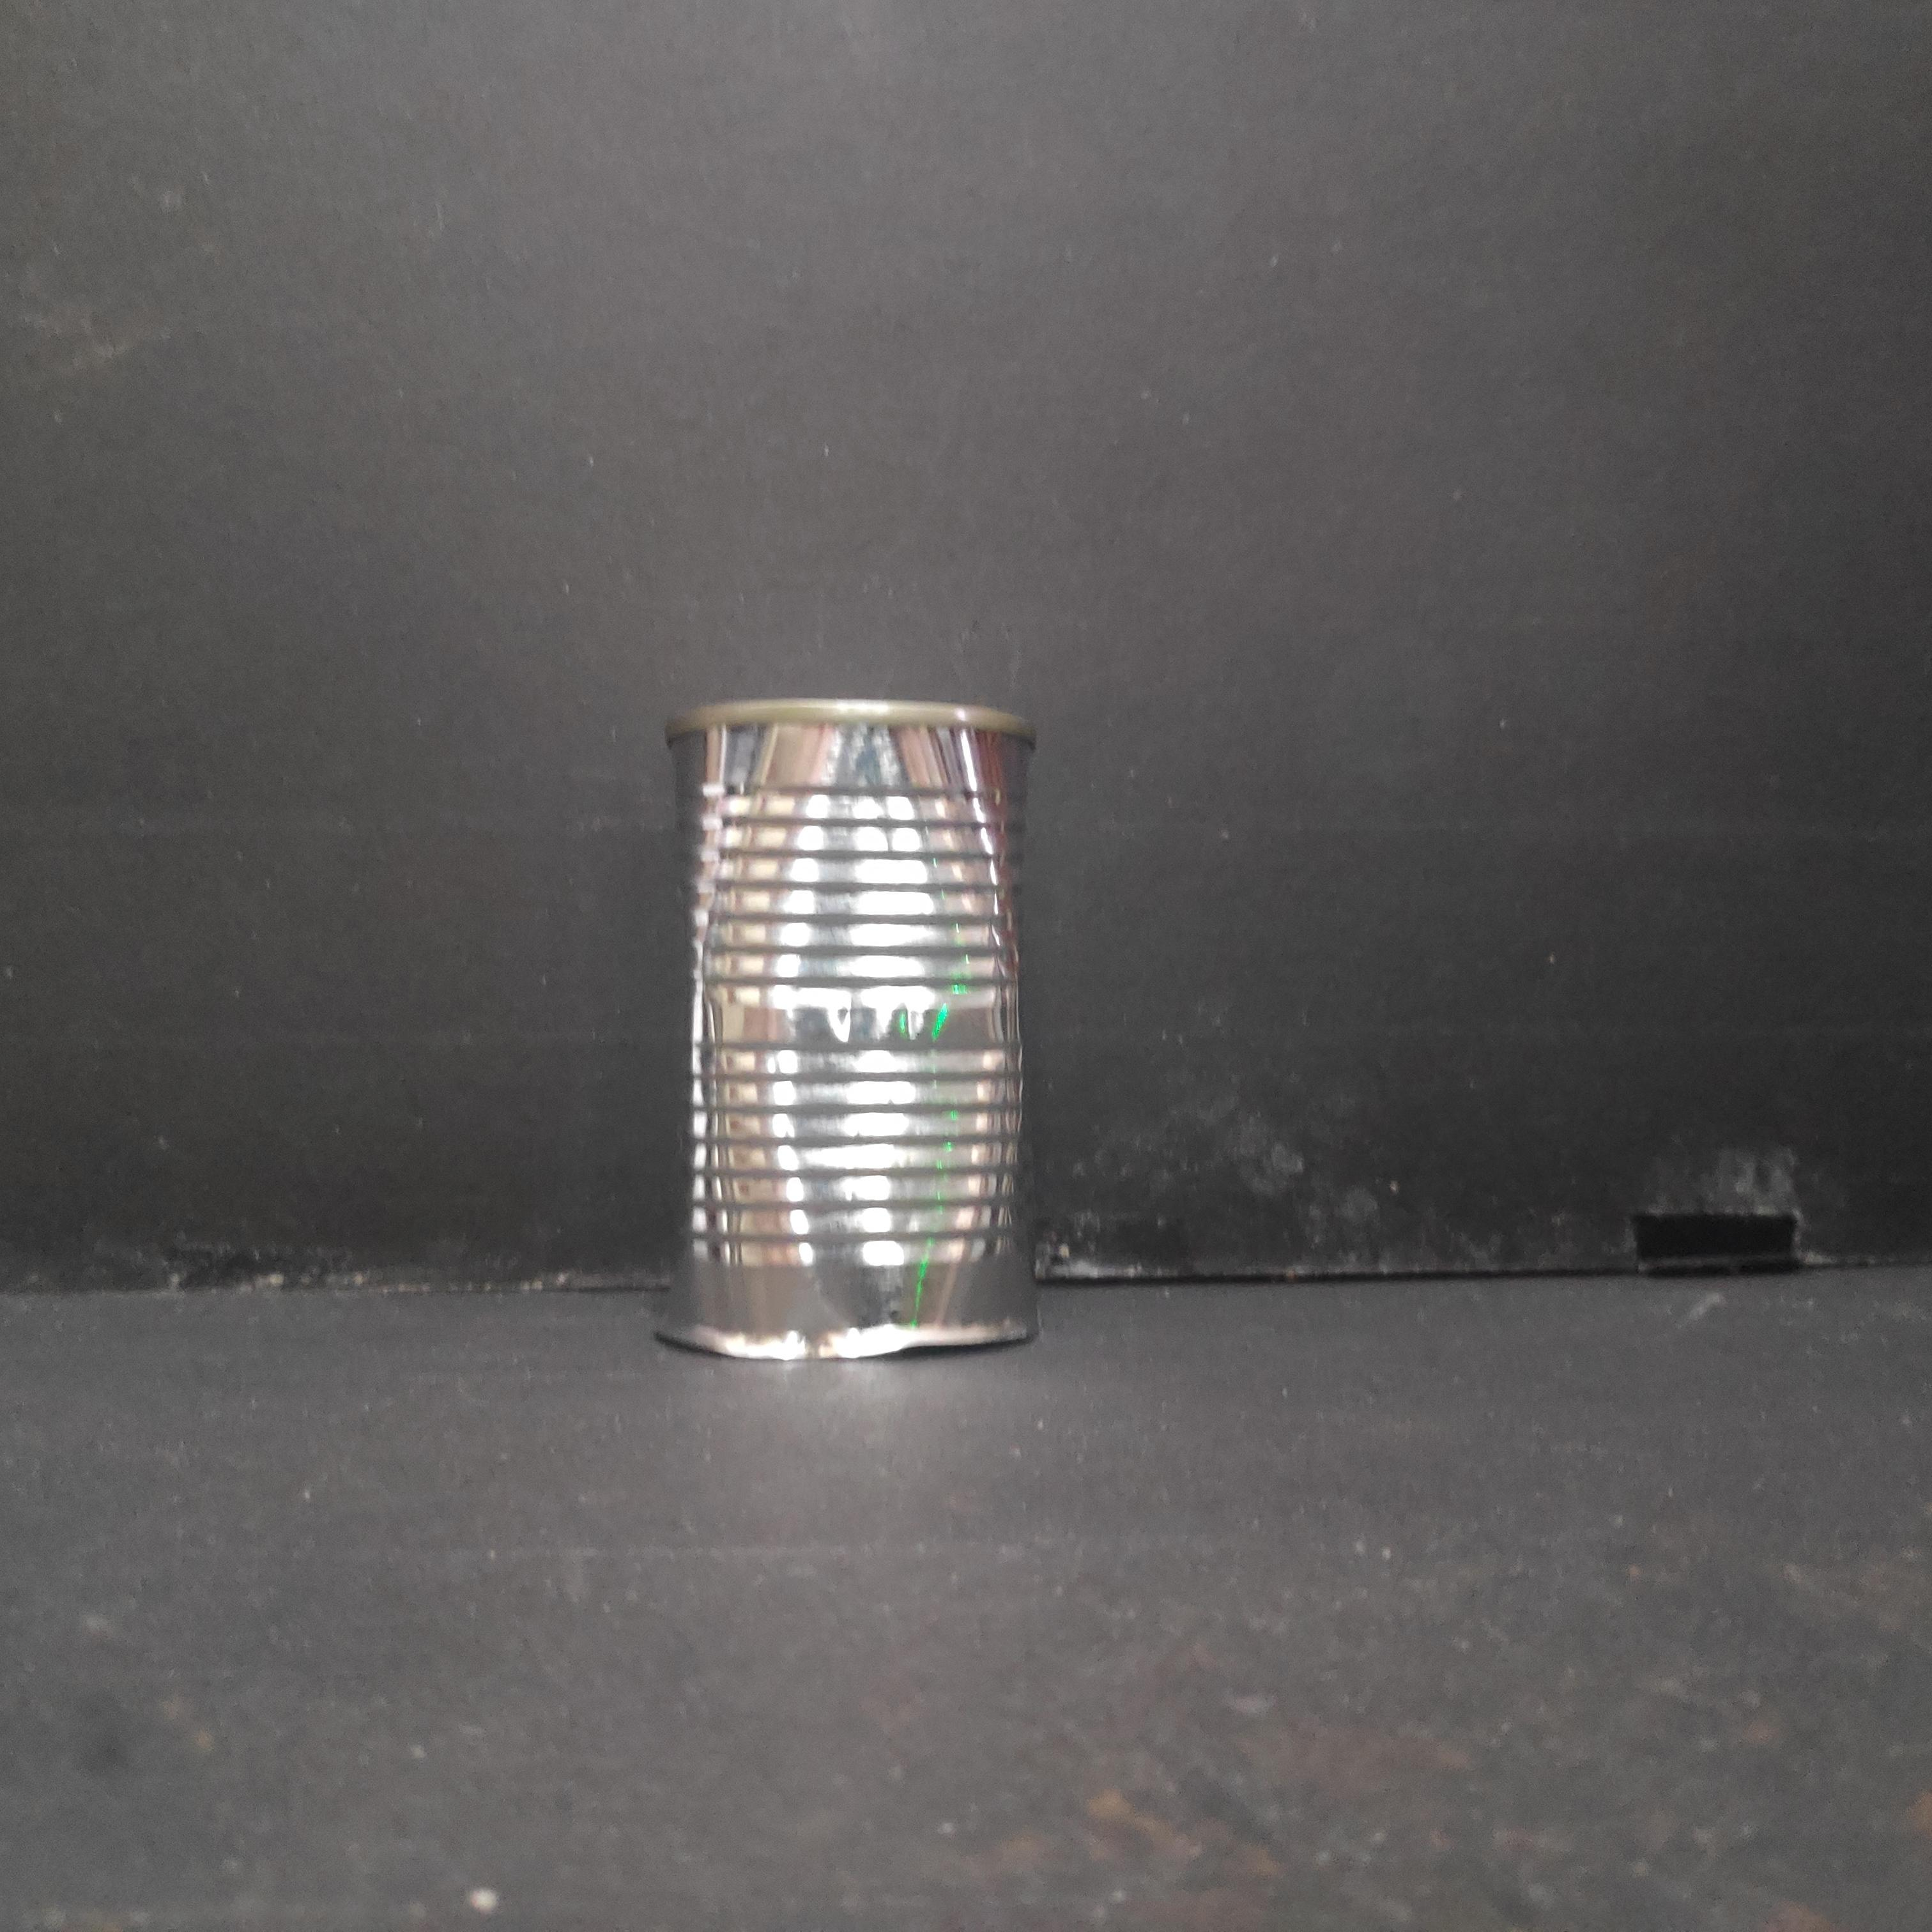Minor Defect: (653, 681, 1047, 1375)
